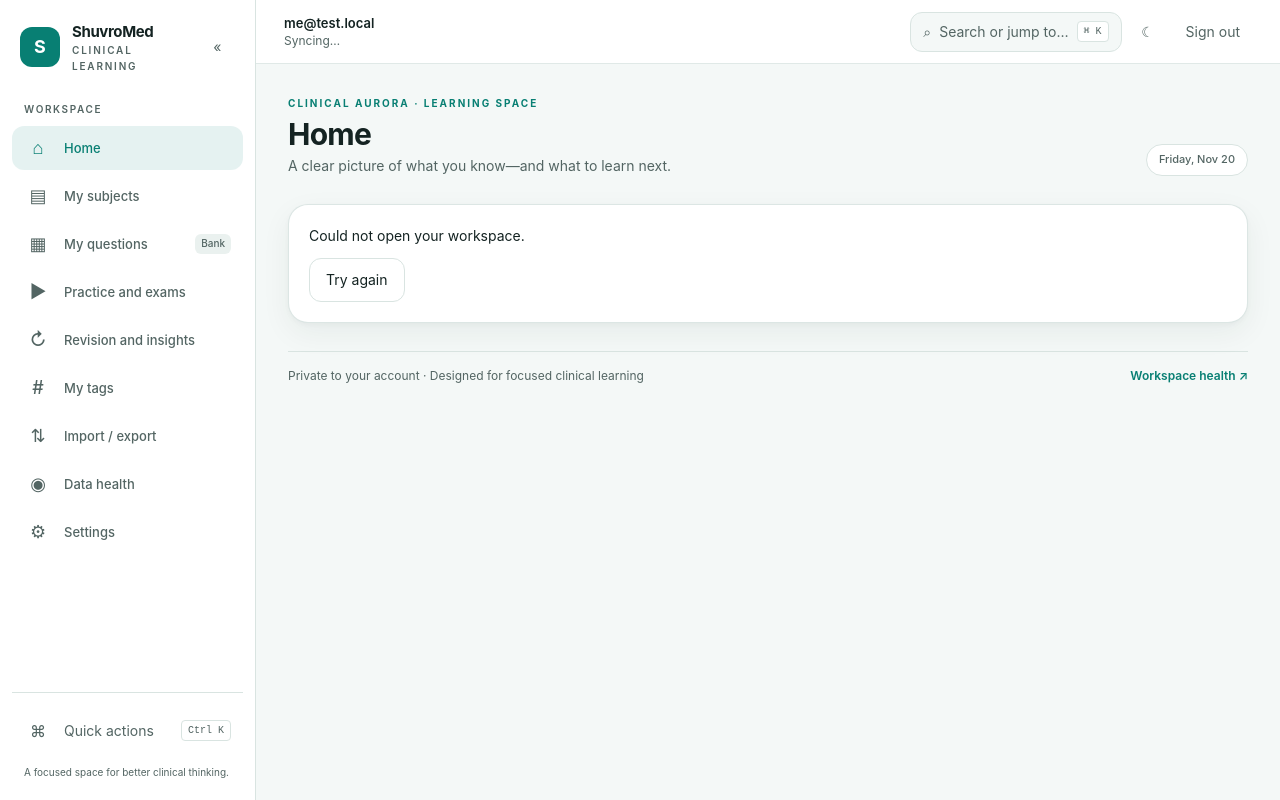
Test: workspace Home retrieval failures › recovers when the learner retries after a temporary session read failure
This screenshot has width=1280, height=800.
Expected: the message "Could not open your workspace." is shown, x1=309 y1=226 x2=525 y2=244
Click the button "Try again" at (357, 280), box x1=309 y1=258 x2=404 y2=302
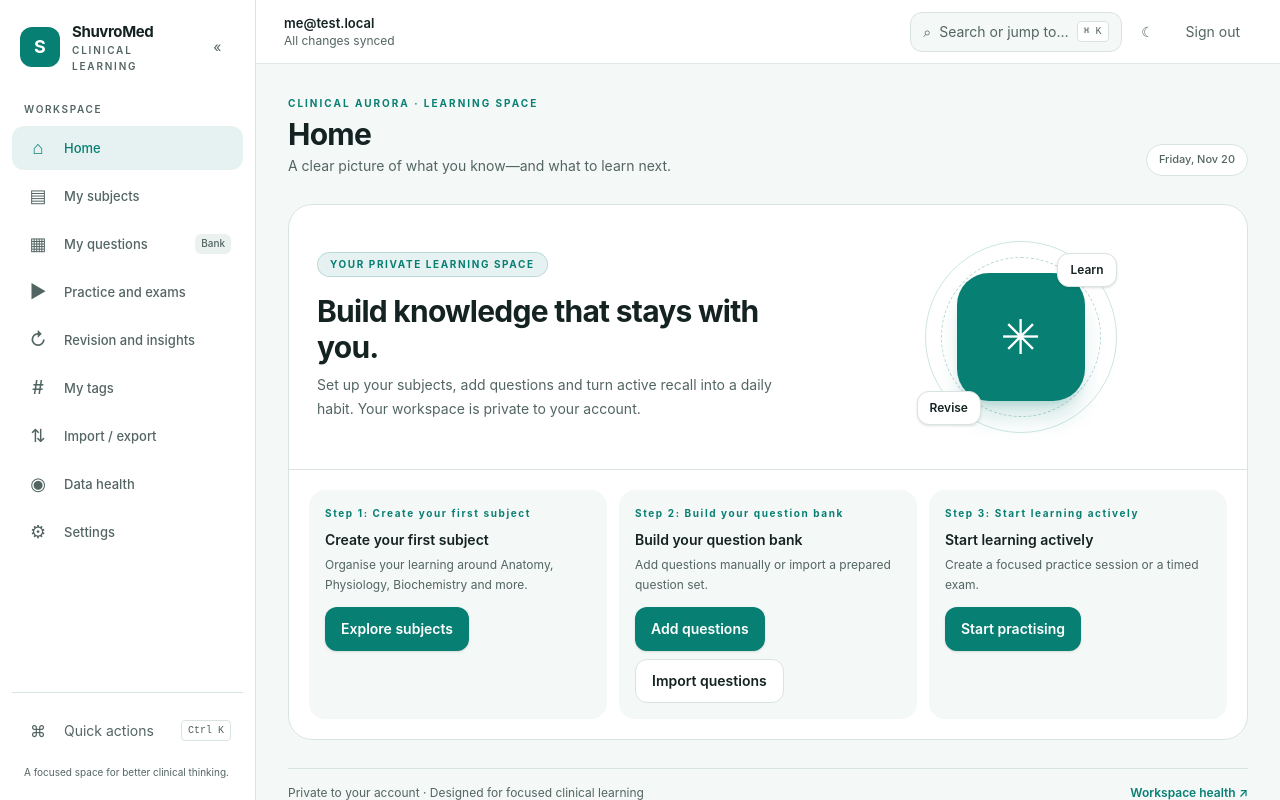
Expected: the element named "Getting started" is shown, x1=288 y1=204 x2=1248 y2=740
